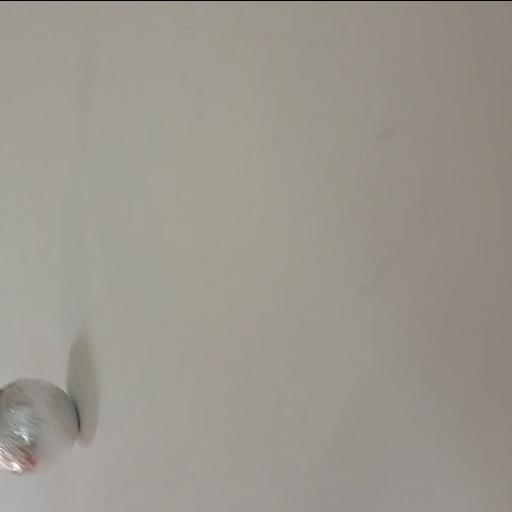alive: (0, 374, 84, 480)
